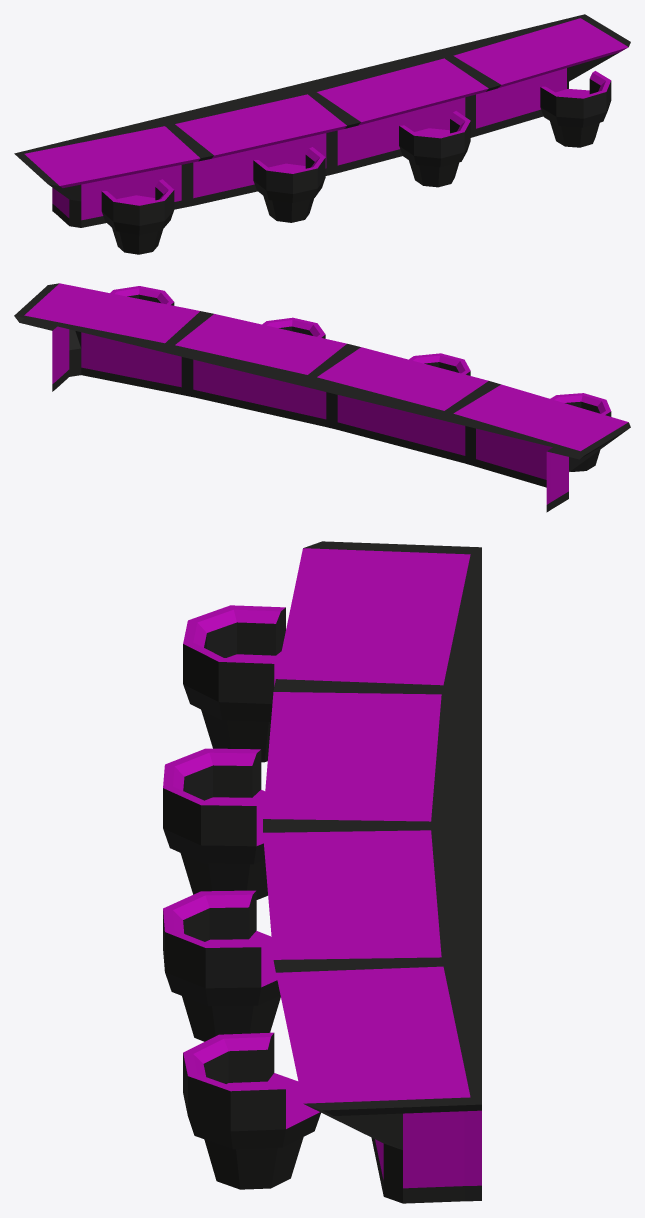
File: Diner_Table_Wall.fbx
3 views of the same model, one above another, from view 1: azimuth 30°, elevation 25°; view 2: azimuth 150°, elevation 25°; view 3: azimuth 270°, elevation 25° (orthographic). The views are drawn at different scales.
Visible parts, largest first — view 1: Diner_Table_Wall; view 2: Diner_Table_Wall; view 3: Diner_Table_Wall.
Part boxes in pixels (bbox=[...]): Diner_Table_Wall: bbox=[14, 14, 630, 254]; Diner_Table_Wall: bbox=[14, 283, 630, 512]; Diner_Table_Wall: bbox=[163, 541, 481, 1203].
Bounding box in the file's own units: 12.67 × 3 × 1.39.
